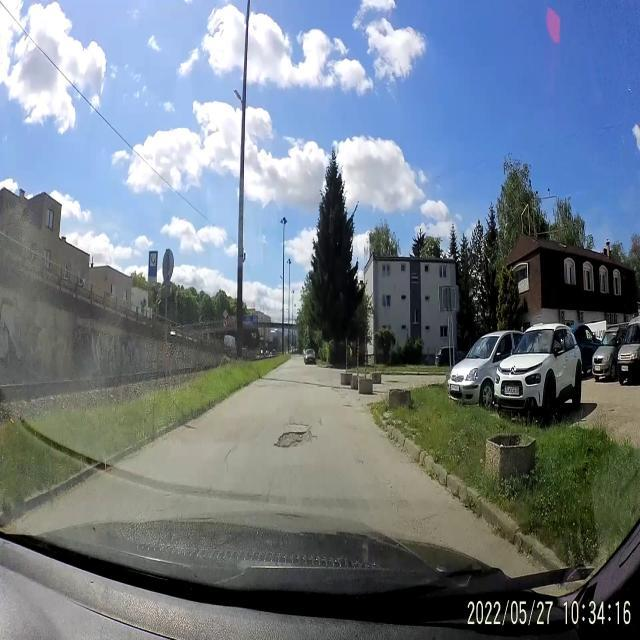Pothole: (276, 425, 312, 450), (342, 402, 355, 410), (356, 458, 366, 468)
